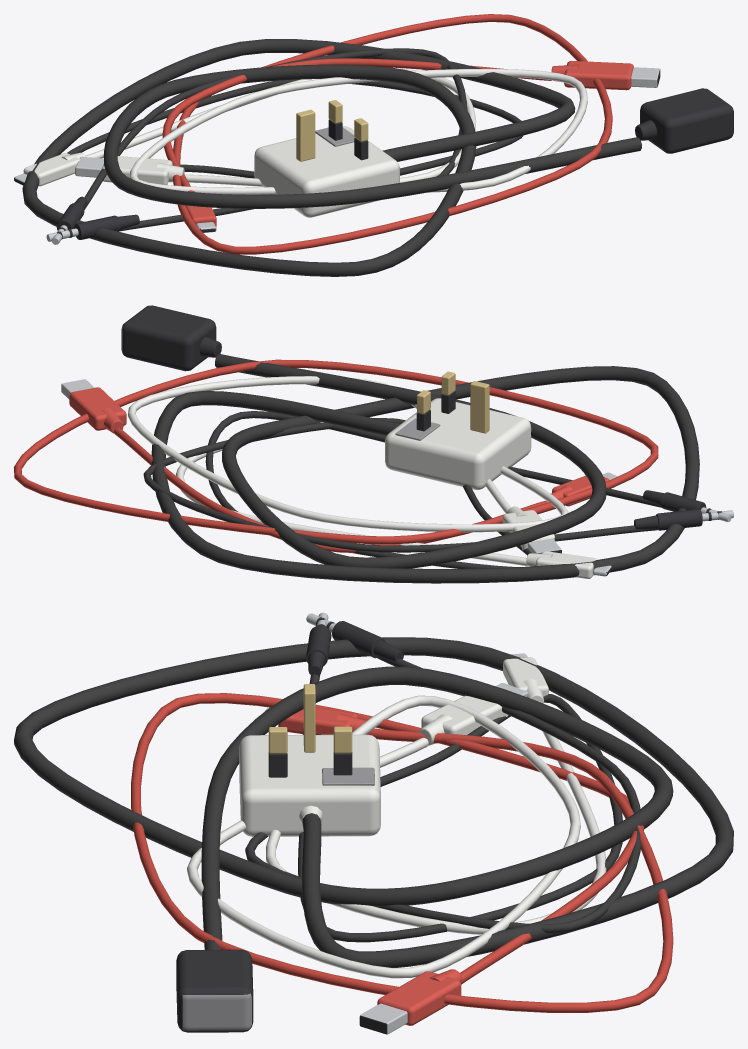
Rendered from kitchen_cables_tangled_a.fbx.
3 views of the same model, one above another, from view 1: azimuth 30°, elevation 25°; view 2: azimuth 150°, elevation 25°; view 3: azimuth 270°, elevation 25° (orthographic). The views are drawn at different scales.
Visible parts, largest first — view 1: kitchen_cables_tangled_a; view 2: kitchen_cables_tangled_a; view 3: kitchen_cables_tangled_a.
Part boxes in pixels (bbox=[...]): kitchen_cables_tangled_a: bbox=[14, 14, 733, 276]; kitchen_cables_tangled_a: bbox=[14, 305, 733, 583]; kitchen_cables_tangled_a: bbox=[14, 612, 733, 1034].
Bounding box in the file's own units: 0.3259 × 0.0416 × 0.2464.
